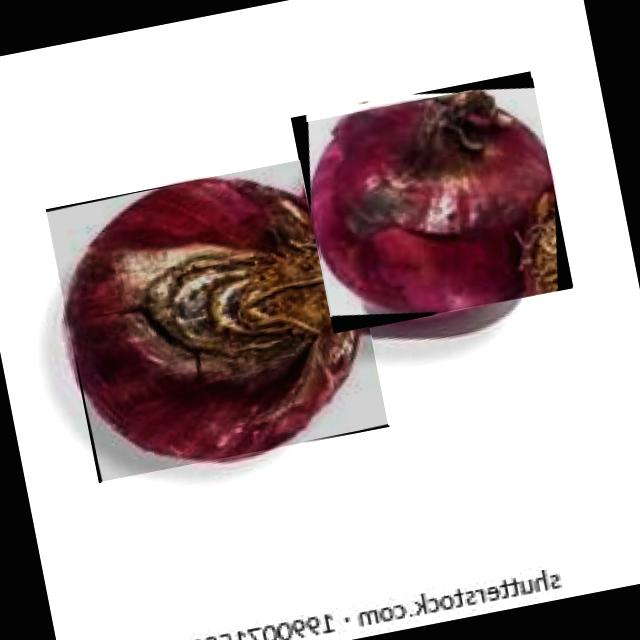rotten: (66, 178, 360, 460), (309, 92, 550, 313)
